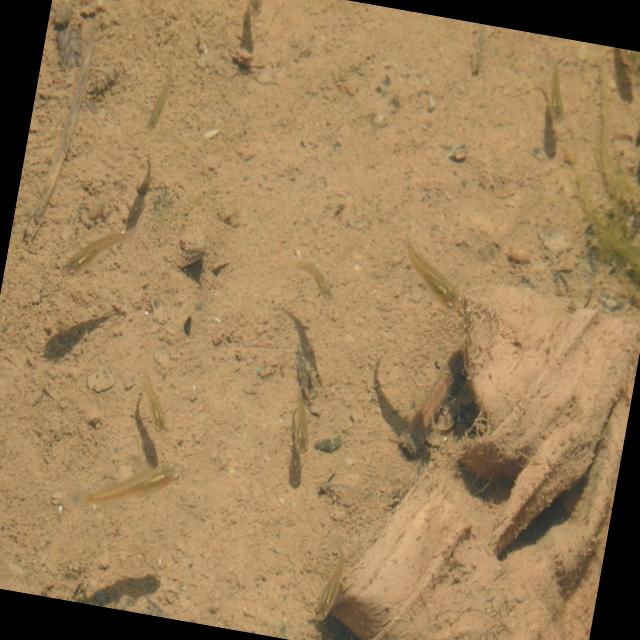Sivrisinek Baligi: (70, 440, 184, 522), (390, 224, 472, 314), (57, 206, 136, 289), (278, 377, 326, 466), (307, 549, 354, 630), (282, 246, 346, 303), (134, 366, 184, 436), (540, 63, 576, 134), (138, 74, 178, 134), (239, 0, 267, 15)
